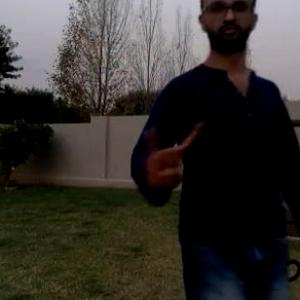takeoff-hand: (140, 119, 208, 192)
